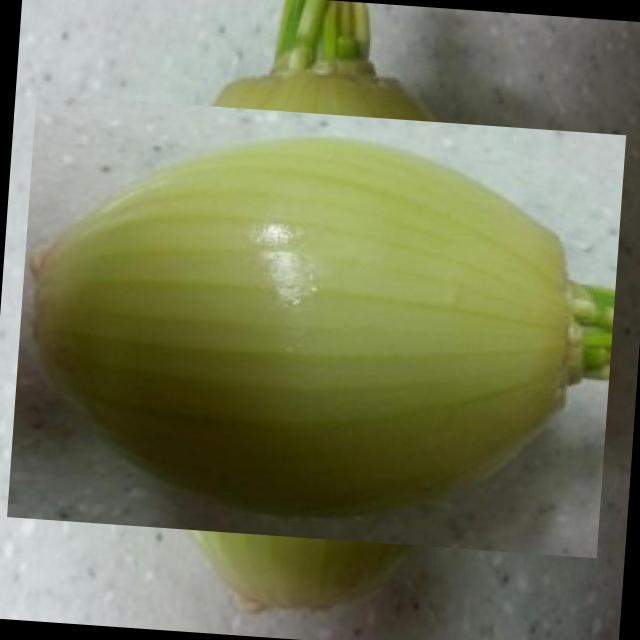Onion: (44, 54, 586, 596)
